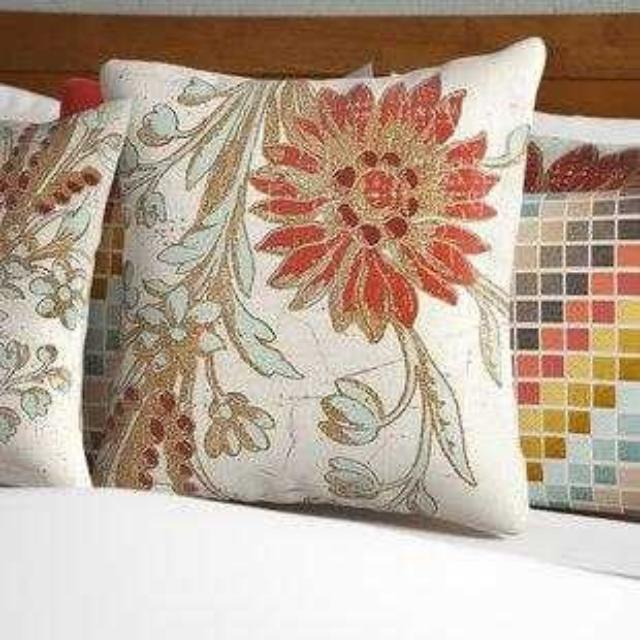pillow: (85, 36, 547, 536)
